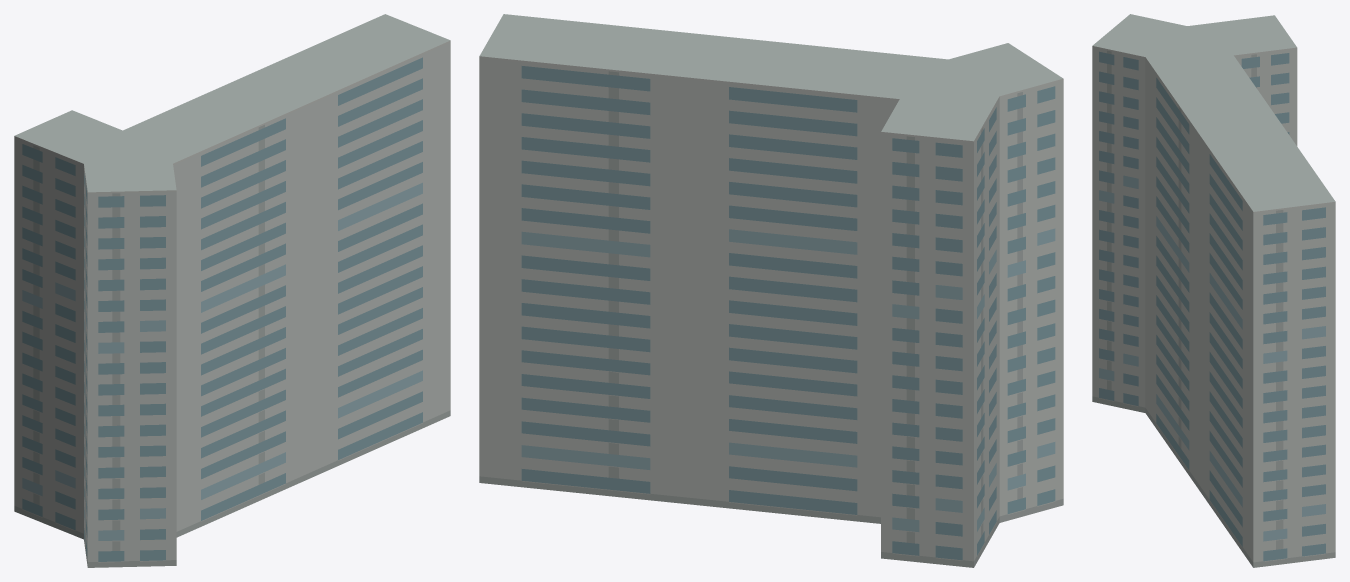
Rendered from residential-42de9bd1-8c4f-4150-b3e9-85e036bb7641.glb.
3 renders of one model, left to right at view 1: azimuth 30°, elevation 25°; view 2: azimuth 150°, elevation 25°; view 3: azimuth 270°, elevation 25°, orthographic. The views are drawn at different scales.
Parts seen in each view (by area): view 1: residential-42de9bd1-8c4f-4150-b3e9-85e036bb7641.tmp; view 2: residential-42de9bd1-8c4f-4150-b3e9-85e036bb7641.tmp; view 3: residential-42de9bd1-8c4f-4150-b3e9-85e036bb7641.tmp.
Part boxes in pixels (x1,y1,x2,y2): residential-42de9bd1-8c4f-4150-b3e9-85e036bb7641.tmp: [14, 14, 450, 567]; residential-42de9bd1-8c4f-4150-b3e9-85e036bb7641.tmp: [479, 14, 1063, 567]; residential-42de9bd1-8c4f-4150-b3e9-85e036bb7641.tmp: [1092, 14, 1335, 567].
Size of the model in its own units: 64.4 by 54 by 33.47.
